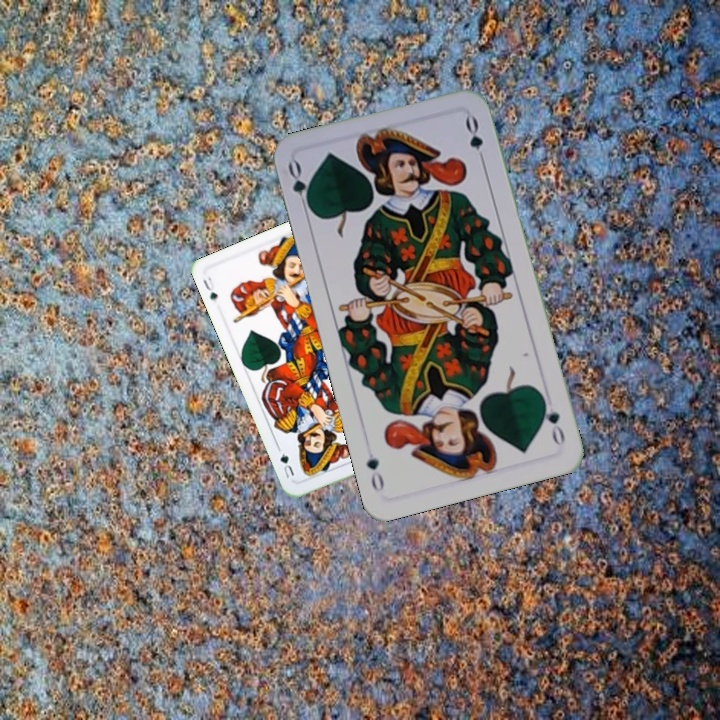GO: (283, 157, 315, 216), (538, 392, 568, 448)
GU: (199, 273, 220, 305)
